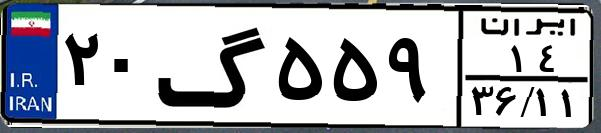0: (110, 28, 156, 98)
1: (560, 70, 590, 125), (508, 27, 537, 80), (535, 70, 560, 125)
2: (57, 26, 110, 100)
3: (470, 70, 495, 125)
4: (537, 27, 568, 80)
5: (270, 28, 330, 110), (330, 28, 385, 110)
6: (495, 70, 520, 125)
9: (385, 28, 445, 110)
گ: (156, 12, 270, 120)
